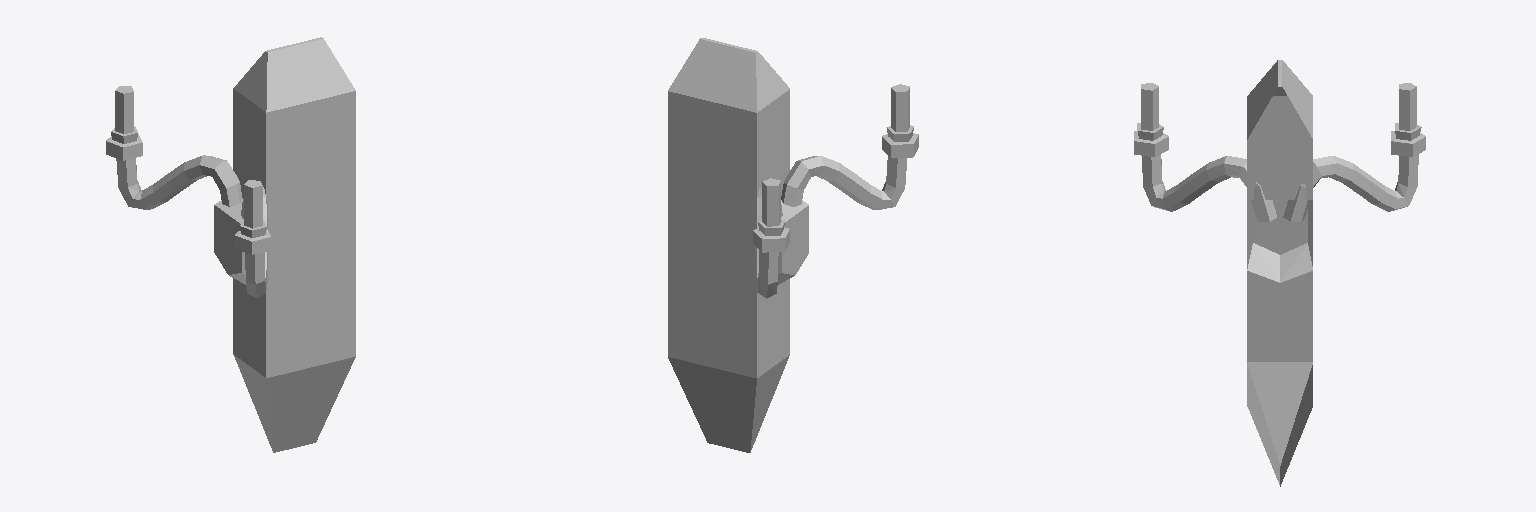
The model's file is candle.obj.
3 renders of one model, left to right at view 1: azimuth 30°, elevation 25°; view 2: azimuth 150°, elevation 25°; view 3: azimuth 270°, elevation 25°, orthographic.
Parts seen in each view (by area): view 1: candelabro_BezierCurve, vela.001_Cylinder.003, vela_Cylinder; view 2: candelabro_BezierCurve, vela_Cylinder, vela.001_Cylinder.003; view 3: candelabro_BezierCurve, vela_Cylinder, vela.001_Cylinder.003.
Part boxes in pixels (x1,y1,x2,y2): candelabro_BezierCurve: (116, 37, 355, 452); vela.001_Cylinder.003: (106, 86, 142, 160); vela_Cylinder: (235, 180, 271, 254); candelabro_BezierCurve: (668, 38, 906, 452); vela_Cylinder: (882, 84, 918, 157); vela.001_Cylinder.003: (753, 178, 789, 252); candelabro_BezierCurve: (1142, 60, 1418, 486); vela_Cylinder: (1134, 83, 1168, 157); vela.001_Cylinder.003: (1391, 83, 1425, 156).
Bounding box in the file's own units: 0.8587 × 1.98 × 1.3.